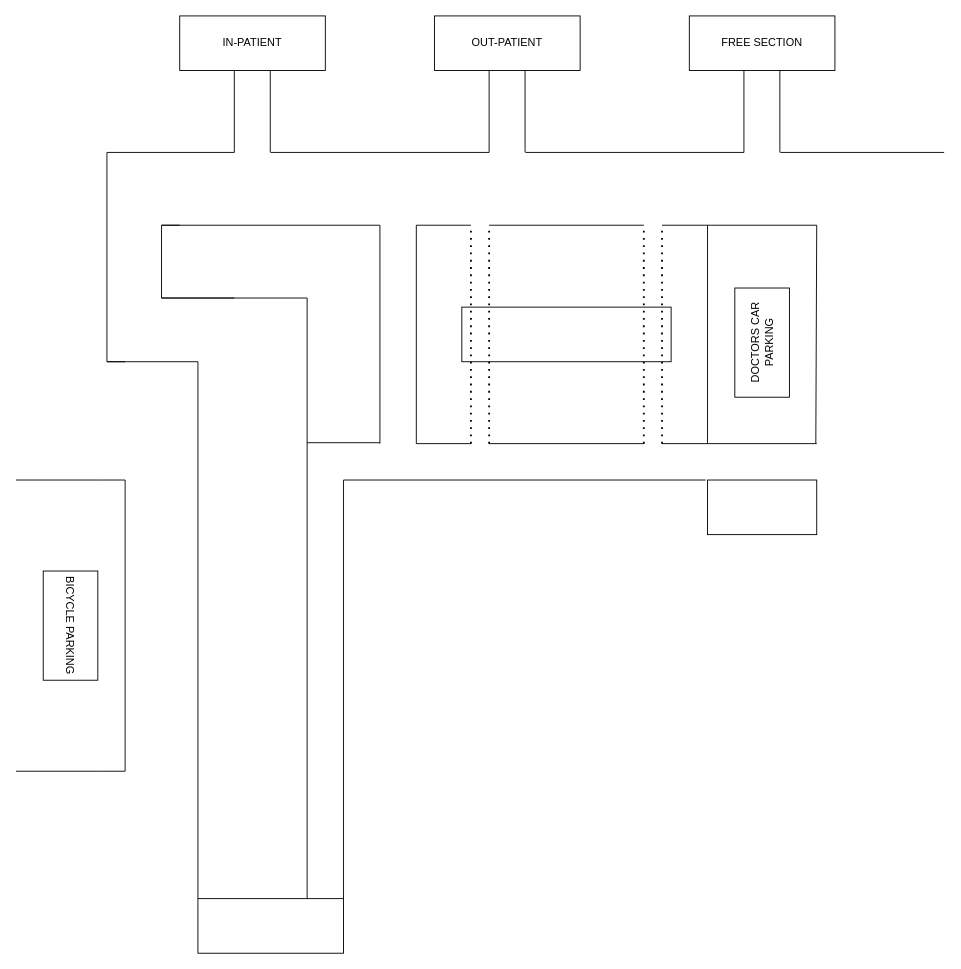
Some shapes in this 961 by 969 pixel diagram are drawn without their labels. Here are the shapes that lost their labels. From the top down, the centre of each, then its label:
At (566,334): "CAR PARKING".
At (762,507): "SCHEDULING".
At (270,925): "ENTRANCE".
